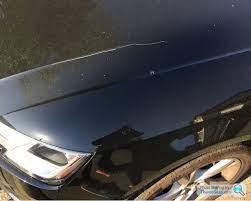bonnet-dent: (0, 1, 250, 162)
